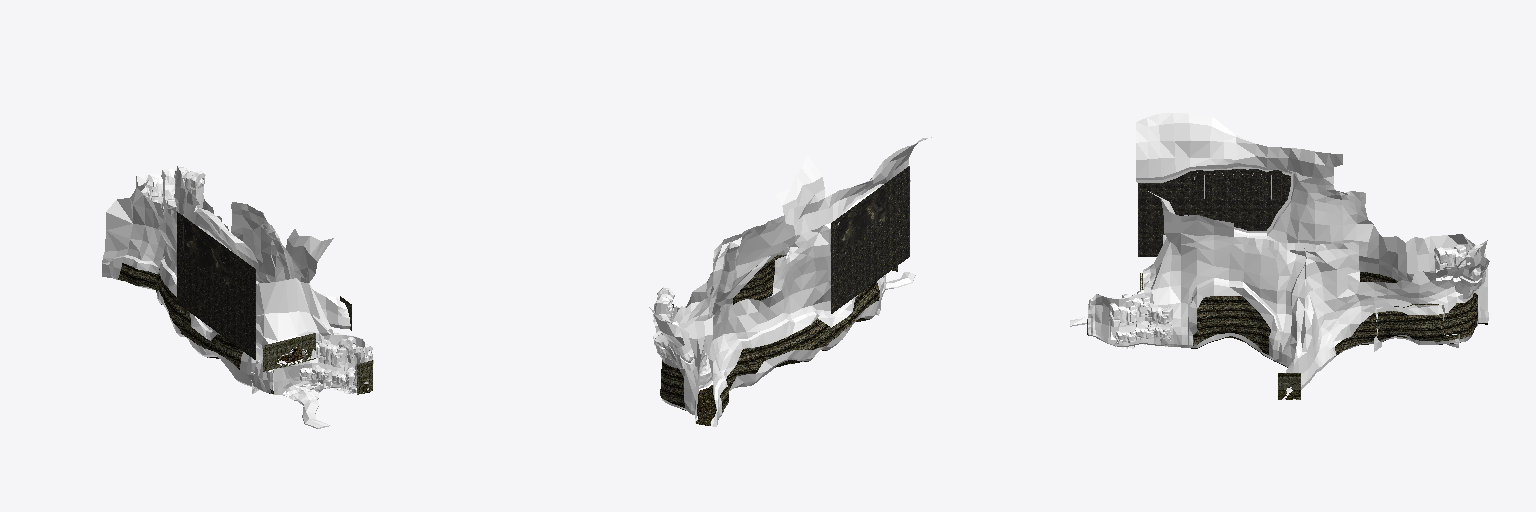
The picture shows the model from 3 angles: view 1: azimuth 30°, elevation 25°; view 2: azimuth 150°, elevation 25°; view 3: azimuth 270°, elevation 25°; orthographic projection.
Parts seen in each view (by area): view 1: mesh5, mesh2, mesh4, mesh14, mesh7; view 2: mesh5, mesh2, mesh4, mesh14; view 3: mesh5, mesh2, mesh4, mesh14, mesh11, mesh7.
Part boxes in pixels (bbox=[...]): mesh5: bbox=[102, 166, 373, 428]; mesh2: bbox=[177, 212, 255, 359]; mesh4: bbox=[118, 263, 242, 369]; mesh14: bbox=[112, 257, 251, 386]; mesh7: bbox=[263, 296, 372, 394]; mesh5: bbox=[649, 137, 931, 424]; mesh2: bbox=[831, 166, 909, 313]; mesh4: bbox=[660, 255, 879, 412]; mesh14: bbox=[662, 248, 881, 419]; mesh5: bbox=[1070, 112, 1489, 389]; mesh2: bbox=[1138, 169, 1290, 256]; mesh4: bbox=[1193, 272, 1477, 354]; mesh14: bbox=[1189, 261, 1478, 361]; mesh11: bbox=[1136, 167, 1448, 399]; mesh7: bbox=[1087, 273, 1300, 399].
Size of the model in its own units: 43.99 by 42.57 by 83.07.
Materials: 17 (6 with a texture image).